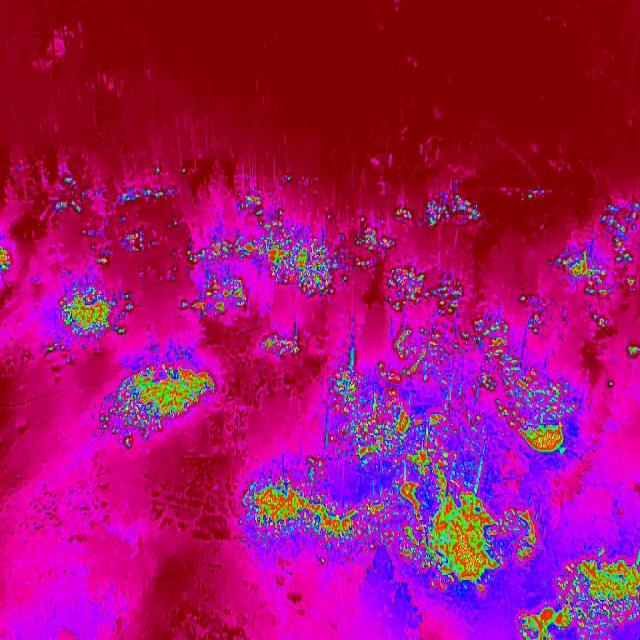fire: (381, 472, 536, 596), (464, 300, 580, 455), (308, 360, 462, 471), (180, 230, 354, 316), (547, 202, 640, 362), (238, 475, 382, 560), (94, 359, 220, 449), (518, 550, 640, 640), (46, 284, 134, 354), (54, 174, 110, 268), (386, 259, 471, 320), (390, 189, 495, 233), (396, 320, 465, 380), (113, 167, 187, 207), (350, 218, 398, 272), (234, 190, 290, 230), (116, 223, 170, 256), (260, 328, 306, 363), (0, 235, 11, 277)
